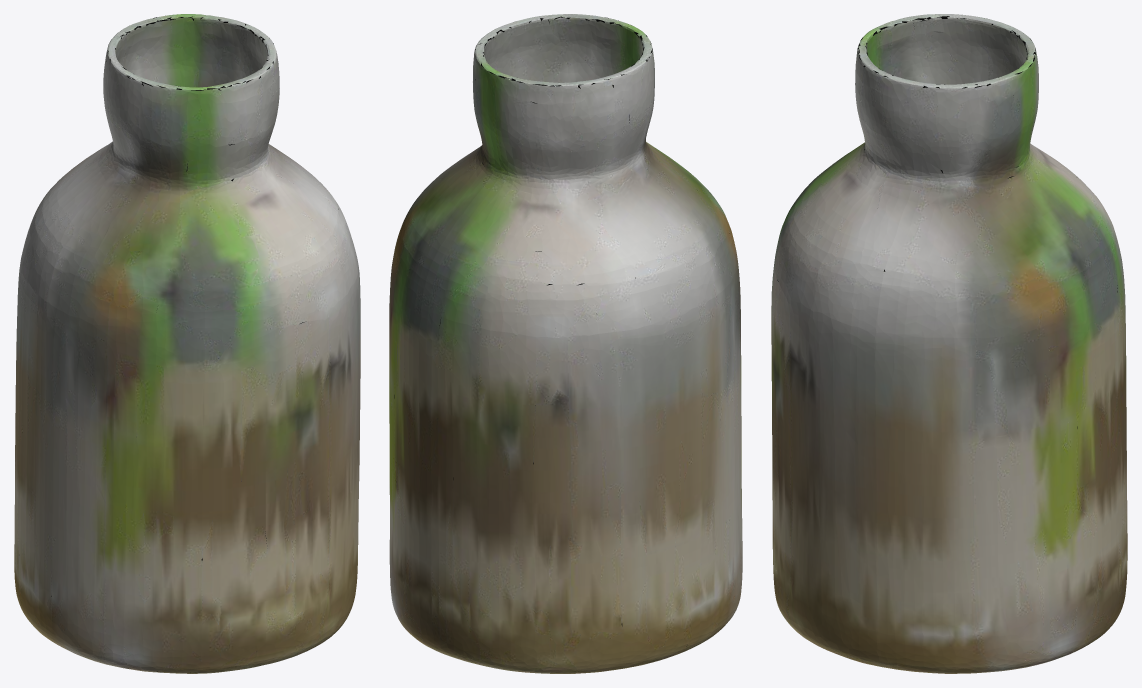
The model's file is pair_of_glass_vases_with_plants_on_console_table_001.glb.
The picture shows the model from 3 angles, left to right: view 1: azimuth 30°, elevation 25°; view 2: azimuth 150°, elevation 25°; view 3: azimuth 270°, elevation 25°; orthographic projection.
Visible parts, largest first — view 1: phase2_final_pair_of_glass_vases_with_plants_on_console_tabl; view 2: phase2_final_pair_of_glass_vases_with_plants_on_console_tabl; view 3: phase2_final_pair_of_glass_vases_with_plants_on_console_tabl.
Part boxes in pixels (bbox=[...]): phase2_final_pair_of_glass_vases_with_plants_on_console_tabl: bbox=[14, 14, 360, 673]; phase2_final_pair_of_glass_vases_with_plants_on_console_tabl: bbox=[389, 14, 742, 673]; phase2_final_pair_of_glass_vases_with_plants_on_console_tabl: bbox=[771, 14, 1127, 673].
Size of the model in its own units: 0.0575 by 0.1012 by 0.0584.
1 material, 1 textured.
